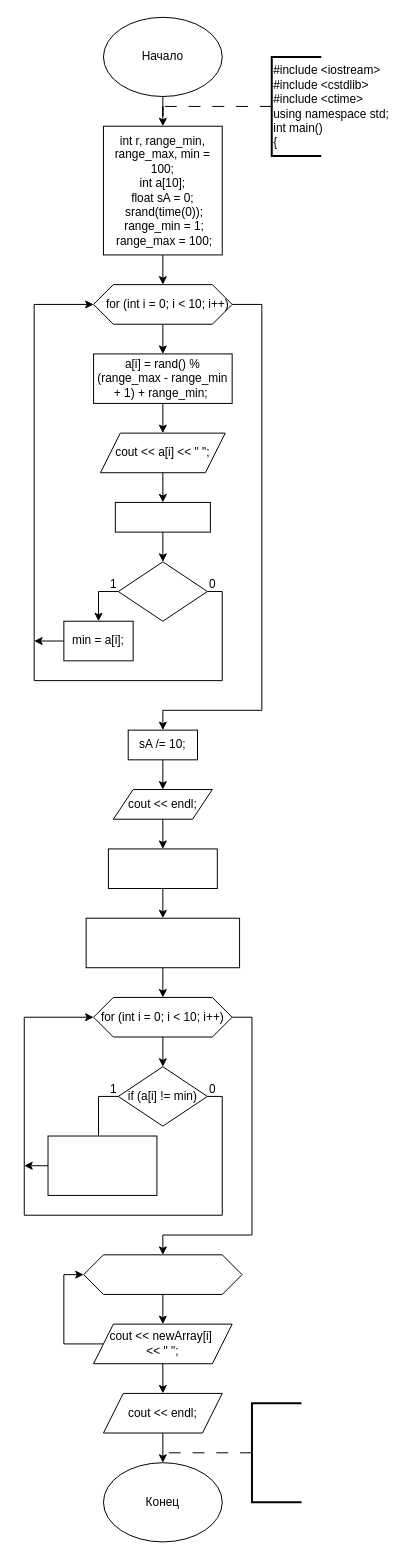
Image size: 407x1559. Some labels were removed from this diagram. The shapes that lost their labels are listed below. From the top down, each one's centre as x and y in pixels, then its label:
At point 162,516: "sA += a[i];".
At point 162,591: "if (a[i] < min)".
At point 162,868: "int newSize = 0; float newArray[13];".
At point 162,942: "newArray[newSize++] = sA; newArray[newSize++] = sA; newArray[newSize++] = sA;".
At point 102,1165: "newArray[newSize] = a[i]; newSize++;".
At point 162,1274: "for (int i = 0; i < newSize; i++)".
At point 276,1452: "return 0; }".
